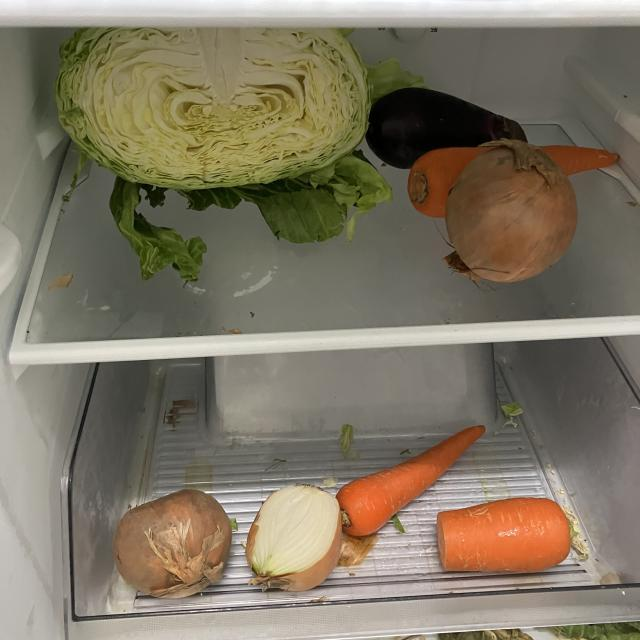cabbage: (51, 12, 379, 229)
carrot: (336, 421, 488, 541), (406, 143, 622, 225), (434, 494, 581, 578)
eggplant: (368, 85, 531, 175)
onion: (441, 136, 581, 290), (110, 485, 238, 607), (242, 481, 344, 599)
